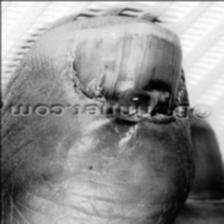Toxin: (111, 80, 173, 125)
